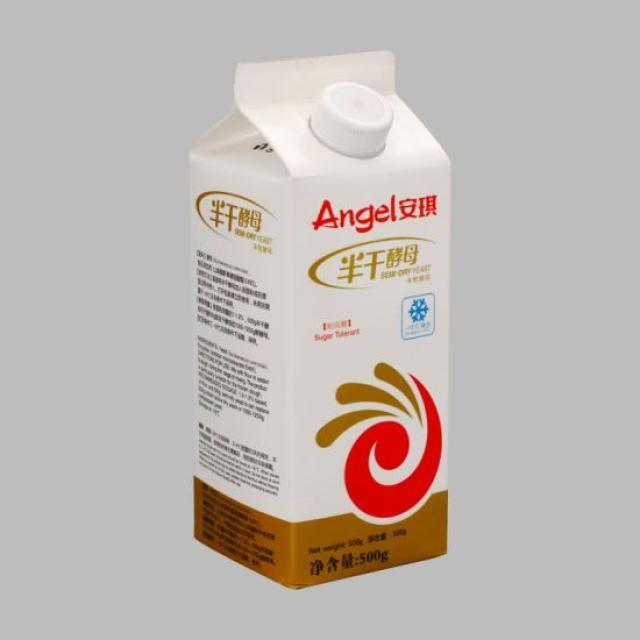Carton: (179, 46, 461, 582)
